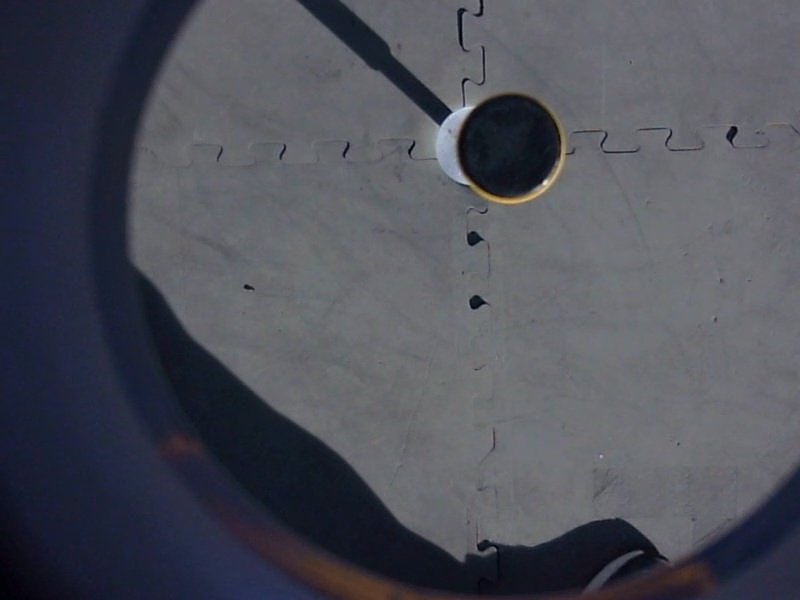tip: (450, 84, 573, 214)
